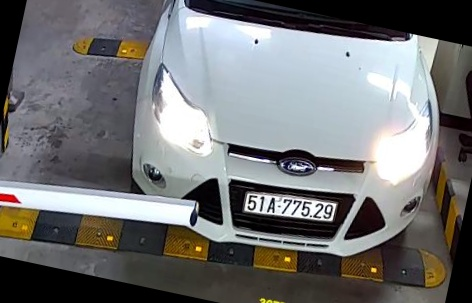plate: (240, 183, 343, 240)
